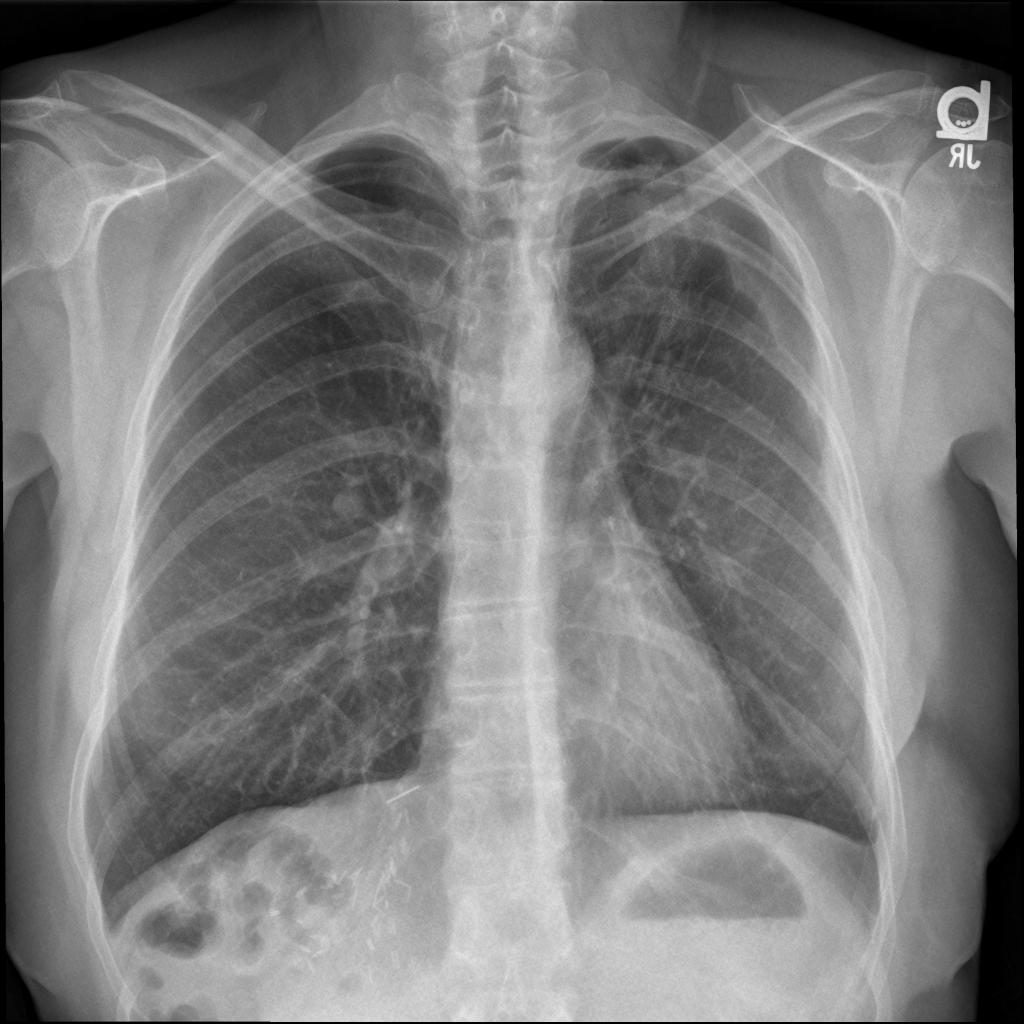Nodule: (126, 192, 145, 211), (103, 187, 120, 204)
